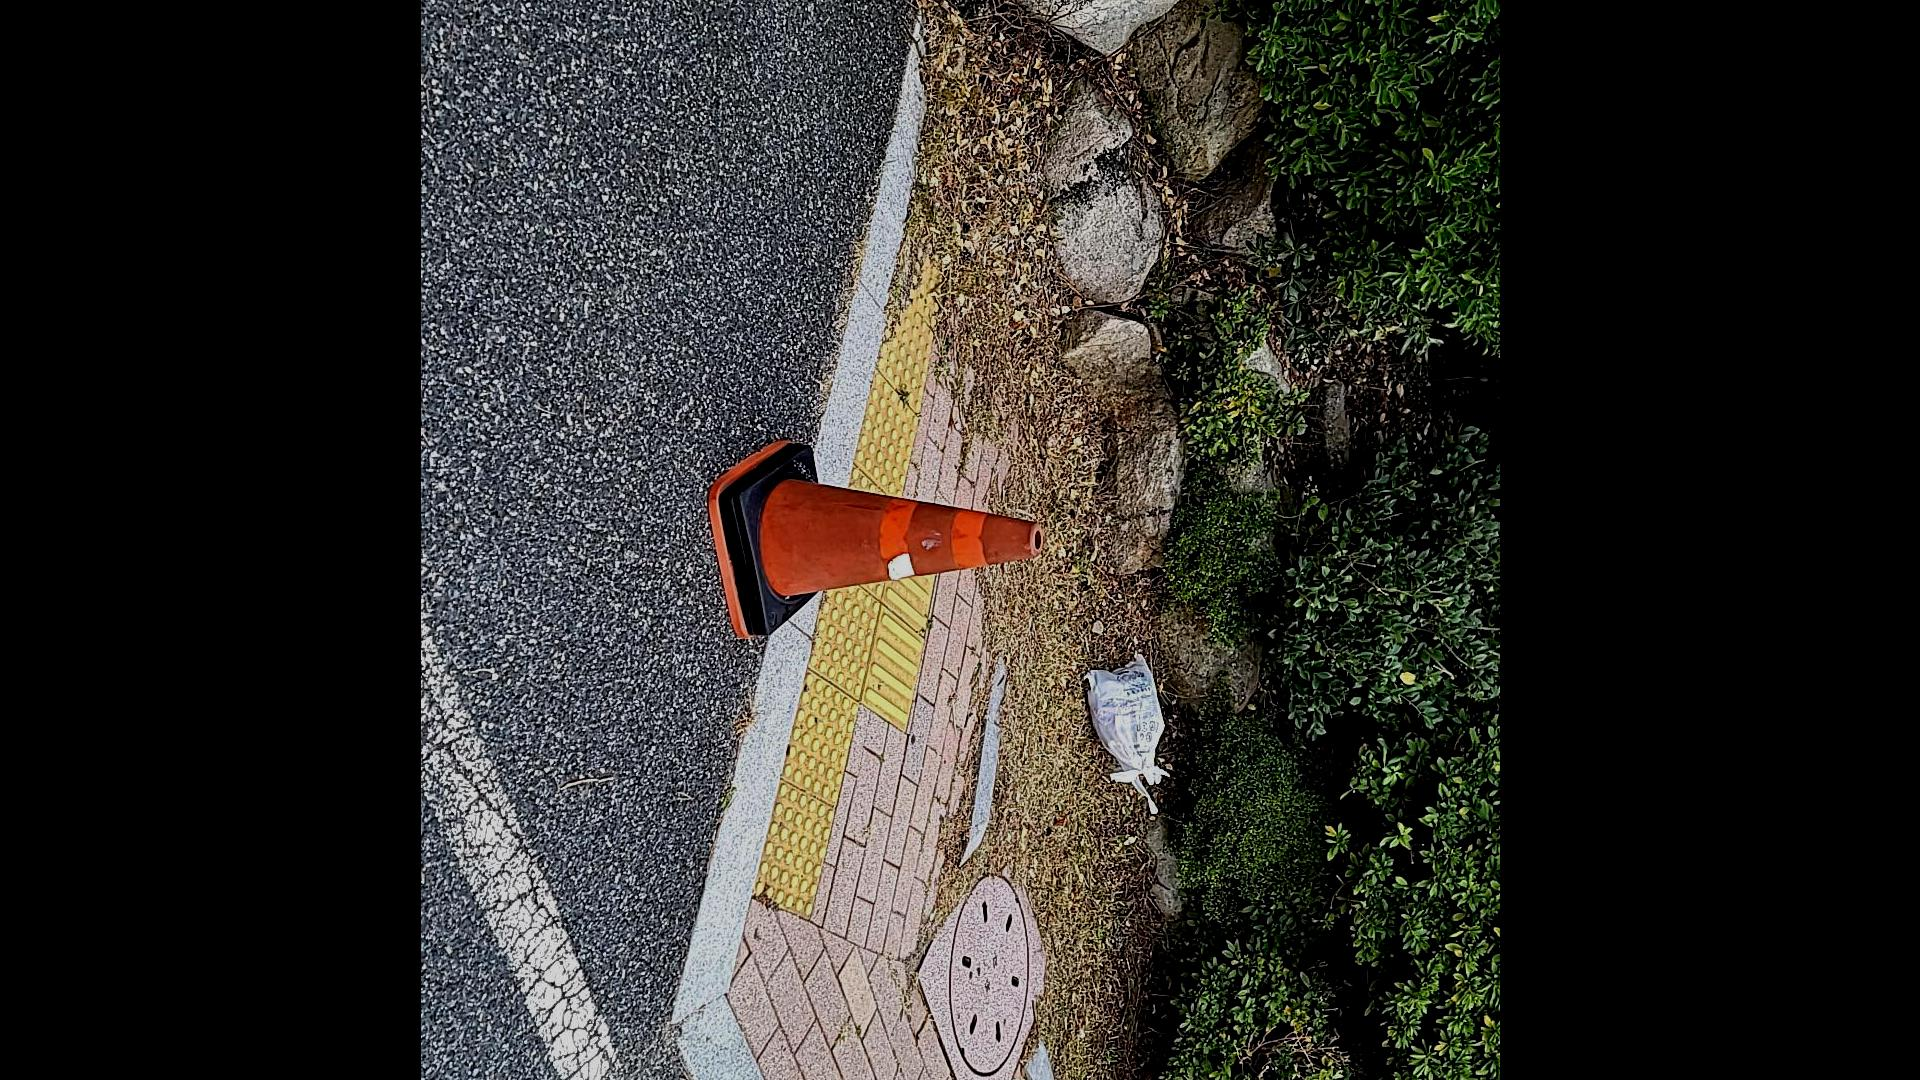white_bag: (1076, 636, 1178, 822)
